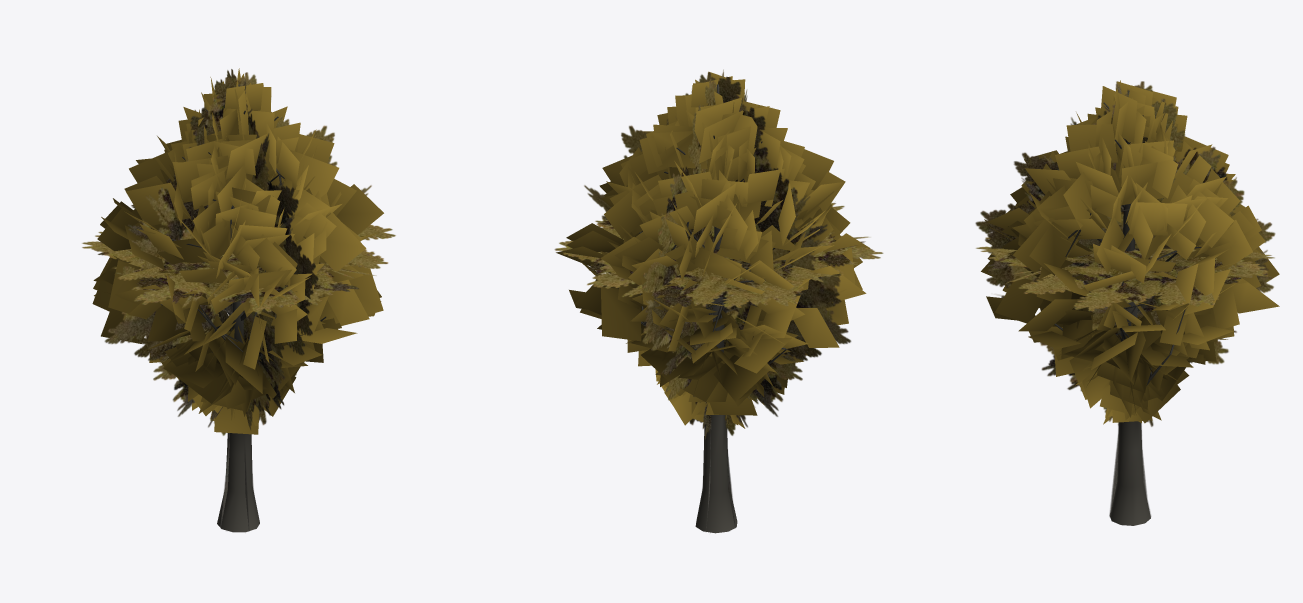
Rendered from veg.tree.ichou.glb.
3 views of the same model, side by side, from view 1: azimuth 30°, elevation 25°; view 2: azimuth 150°, elevation 25°; view 3: azimuth 270°, elevation 25° (orthographic). The views are drawn at different scales.
Visible parts, largest first — view 1: LOD0, IMP; view 2: LOD0, IMP; view 3: LOD0, IMP.
Boxes of the visible parts, box(x1,y1,x2,y2) form: LOD0: box(92, 68, 383, 532); IMP: box(82, 69, 395, 530); LOD0: box(556, 71, 870, 533); IMP: box(554, 69, 883, 530); LOD0: box(981, 80, 1279, 525); IMP: box(975, 81, 1275, 516).
Size of what is drawn, in the model's own units: 7.53 by 11.47 by 7.53.
Materials: 3 (1 with a texture image).
